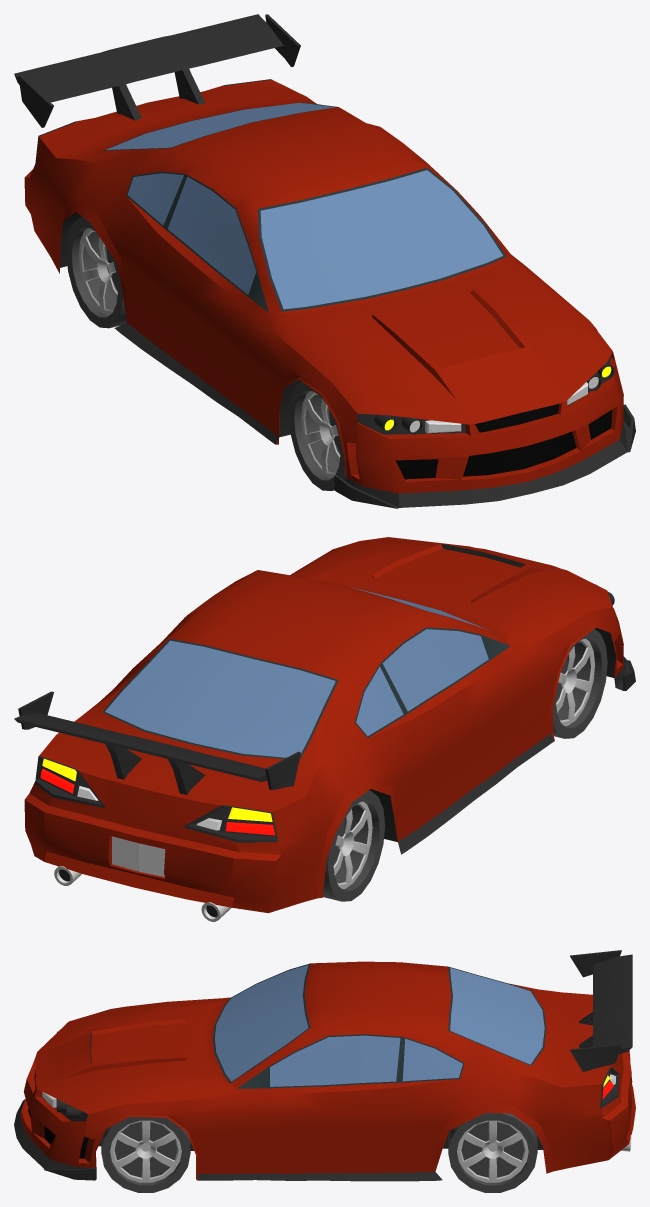
The model's file is nissan.fbx.
The picture shows the model from 3 angles, top to bottom: view 1: azimuth 30°, elevation 25°; view 2: azimuth 150°, elevation 25°; view 3: azimuth 270°, elevation 25°; orthographic projection. The views are drawn at different scales.
Visible parts, largest first — view 1: car_nissan, wheel_br_nissan, wheel_fr_nissan; view 2: car_nissan, wheel_br_nissan, wheel_fr_nissan; view 3: car_nissan, wheel_bl_nissan, wheel_fl_nissan.
Boxes of the visible parts, left/top/right/bottom form: car_nissan: left=14, top=14, right=635, bottom=508; wheel_br_nissan: left=66, top=217, right=126, bottom=328; wheel_fr_nissan: left=288, top=381, right=345, bottom=490; car_nissan: left=14, top=537, right=635, bottom=921; wheel_br_nissan: left=323, top=790, right=385, bottom=901; wheel_fr_nissan: left=553, top=629, right=607, bottom=738; car_nissan: left=14, top=950, right=635, bottom=1181; wheel_bl_nissan: left=448, top=1113, right=537, bottom=1192; wheel_fl_nissan: left=101, top=1117, right=190, bottom=1192.
Bounding box in the file's own units: 208 × 136 × 493.
